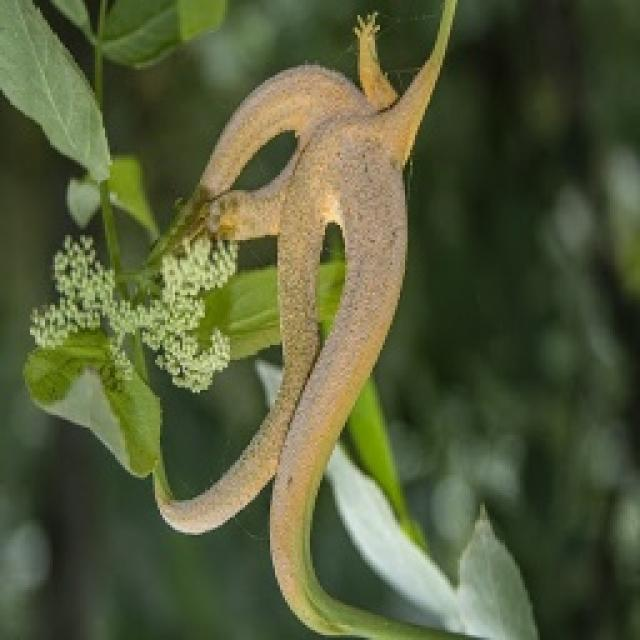Elderberry_rust: (145, 0, 473, 638)
